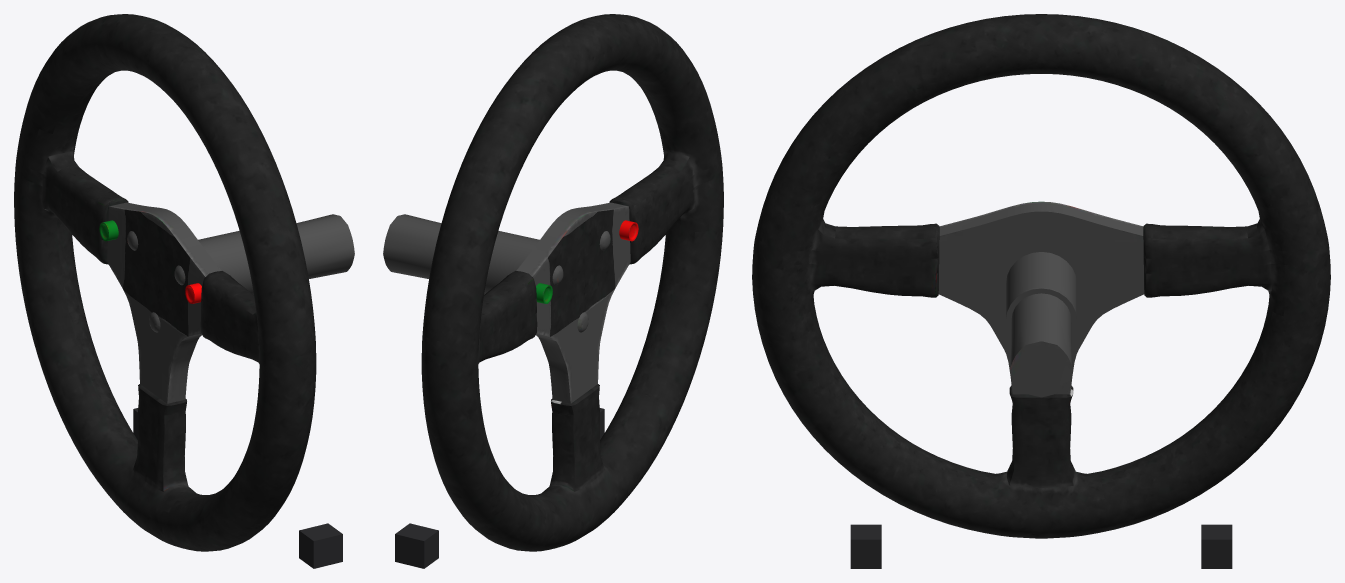
The model's file is cafe-wheel.glb.
The picture shows the model from 3 angles, left to right: view 1: azimuth 30°, elevation 25°; view 2: azimuth 150°, elevation 25°; view 3: azimuth 270°, elevation 25°; orthographic projection. The views are drawn at different scales.
Visible parts, largest first — view 1: Cafe_Wheel; view 2: Cafe_Wheel; view 3: Cafe_Wheel.
Part boxes in pixels (x1=…): Cafe_Wheel: x1=14, y1=14, x2=354, y2=568; Cafe_Wheel: x1=383, y1=14, x2=723, y2=568; Cafe_Wheel: x1=752, y1=14, x2=1330, y2=568.
Bounding box in the file's own units: 0.1126 × 0.26 × 0.26.
2 materials, 1 textured.
